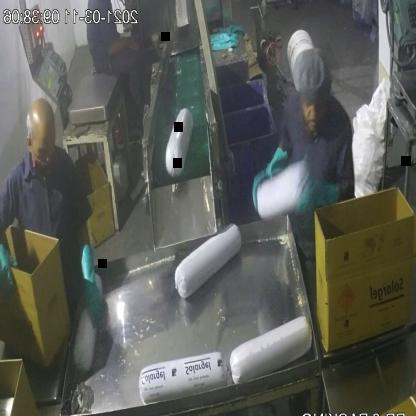glove: (78, 236, 106, 336), (0, 227, 20, 308)
no_glove: (102, 30, 140, 67)
